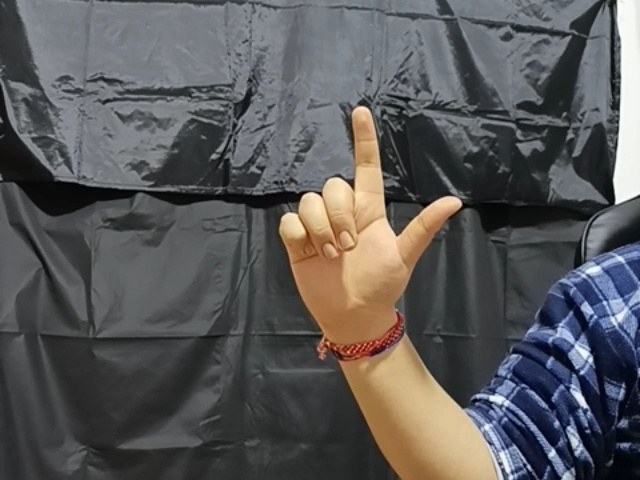L: (280, 105, 463, 332)
